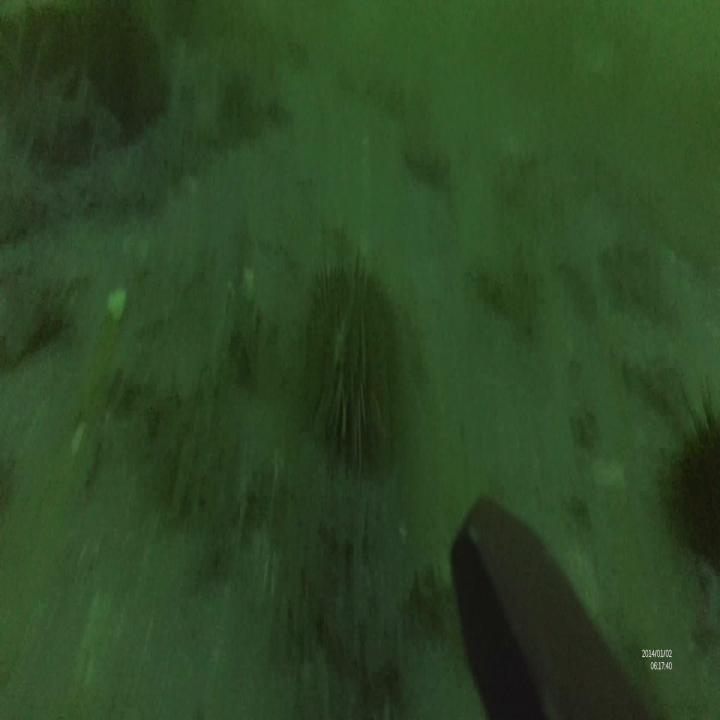echinus: (302, 261, 400, 468), (664, 379, 720, 571)
